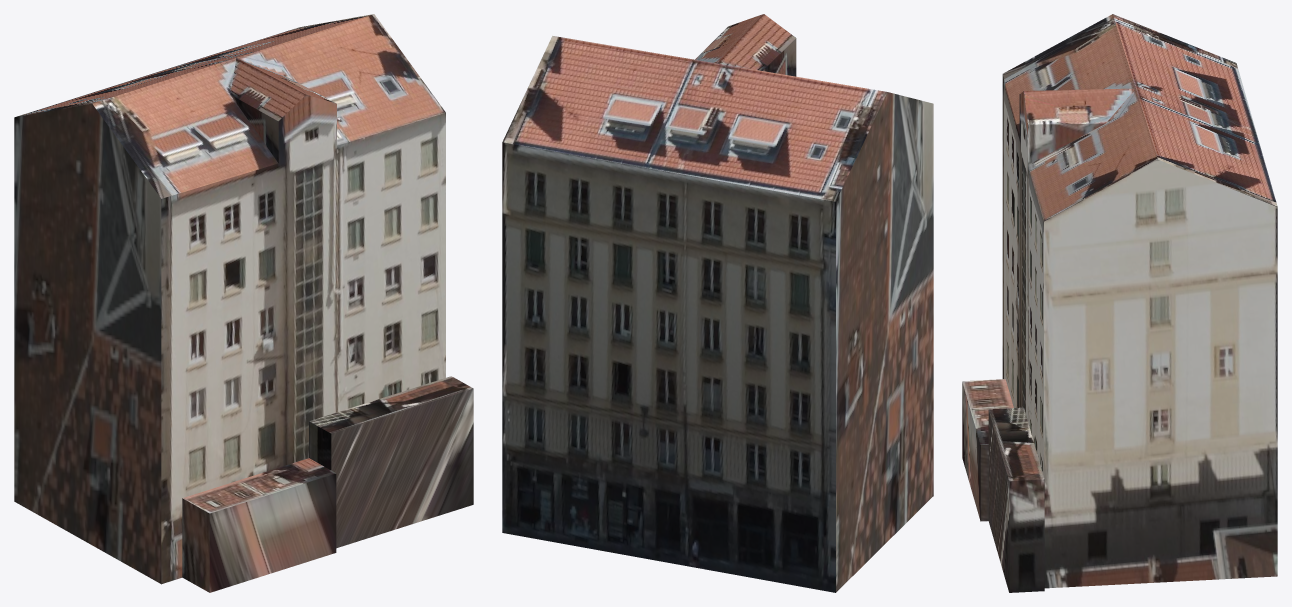
3 views of the same model, side by side, from view 1: azimuth 30°, elevation 25°; view 2: azimuth 150°, elevation 25°; view 3: azimuth 270°, elevation 25° (orthographic). The views are drawn at different scales.
Visible parts, largest first — view 1: Z_UP; view 2: Z_UP; view 3: Z_UP.
Boxes of the visible parts, x1,y1,x2,y2 form: Z_UP: (14,14,473,592); Z_UP: (502,14,933,592); Z_UP: (962,14,1277,592).
Size of the model in its own units: 21.94 by 27.24 by 18.26.
2 materials, 1 textured.
